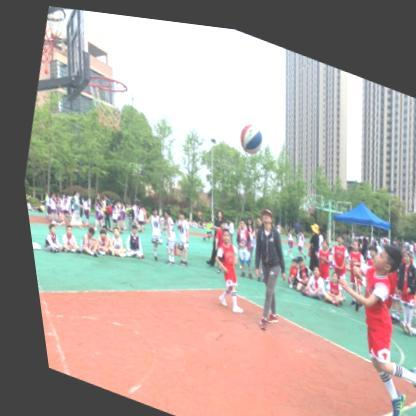basketball: (231, 113, 264, 153)
rim: (77, 66, 133, 133)
